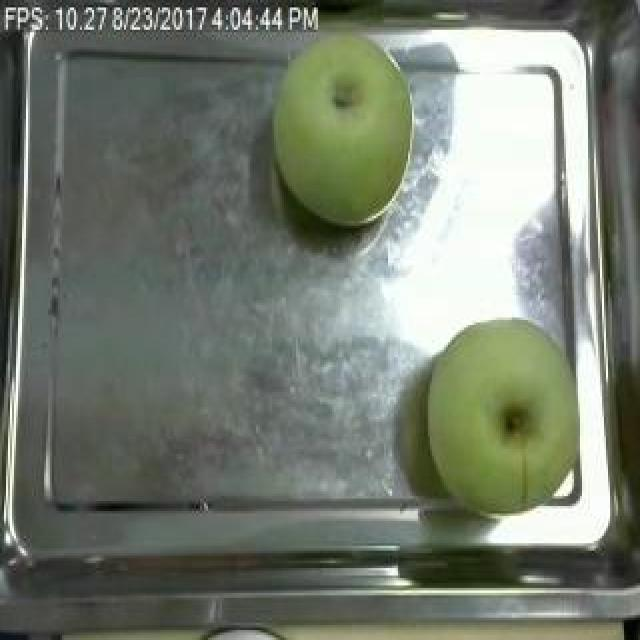Rotten Apple: (267, 13, 443, 246), (429, 315, 595, 528)
